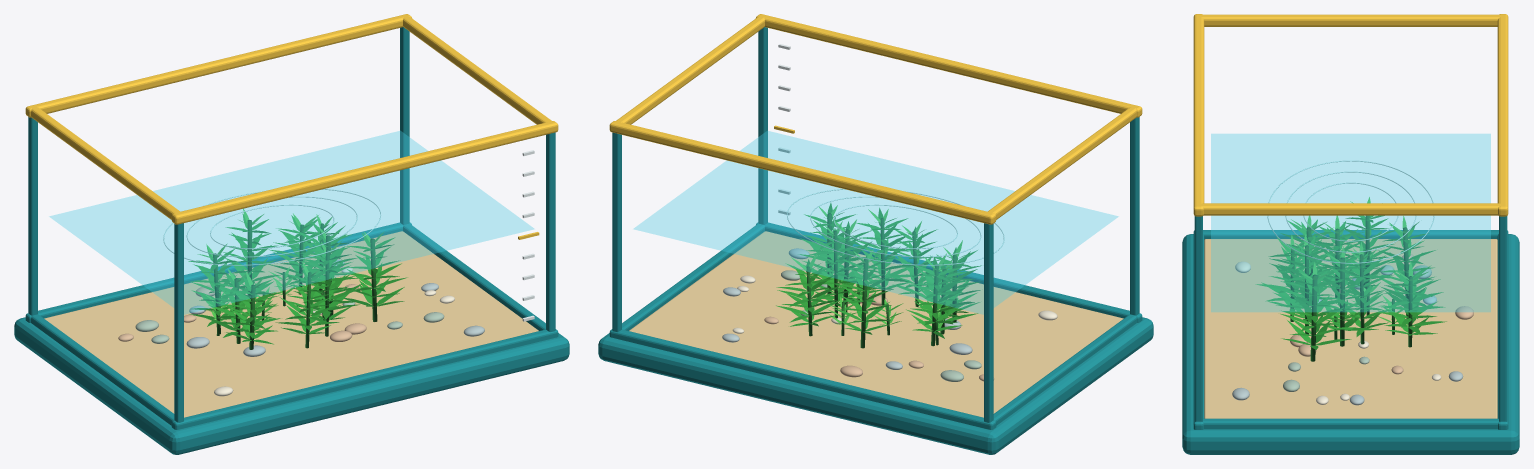
File: submerged_plant_tank_finalnewnew.glb
The picture shows the model from 3 angles, left to right: view 1: azimuth 30°, elevation 25°; view 2: azimuth 150°, elevation 25°; view 3: azimuth 270°, elevation 25°; orthographic projection. The views are drawn at different scales.
Parts seen in each view (by area): view 1: WaterSurface, Bottom, DisplayBase, Rim.004, Rim.005, Rim, Rim.001, Rim.006, Rim.007, Rim.002, CornerPost, CornerPost.002 (+4 smaller); view 2: WaterSurface, Bottom, DisplayBase, Rim.005, Rim.004, Rim.001, Rim, Rim.006, Rim.007, Rim.002, CornerPost.001, CornerPost.003 (+4 smaller); view 3: WaterSurface, Bottom, DisplayBase, Rim.007, Rim.006, Rim.003, Rim.005, Rim.004, Rim.002, CornerPost.002, CornerPost.003, Rim (+5 smaller).
Boxes of the visible parts, x1=… form: WaterSurface: x1=49, y1=131, x2=533, y2=314; Bottom: x1=44, y1=231, x2=538, y2=417; DisplayBase: x1=14, y1=317, x2=569, y2=454; Rim.004: x1=171, y1=121, x2=558, y2=224; Rim.005: x1=25, y1=14, x2=411, y2=117; Rim: x1=171, y1=329, x2=558, y2=429; Rim.001: x1=25, y1=222, x2=411, y2=322; Rim.006: x1=31, y1=106, x2=180, y2=219; Rim.007: x1=403, y1=16, x2=551, y2=124; Rim.002: x1=31, y1=314, x2=174, y2=425; CornerPost: x1=174, y1=223, x2=183, y2=422; CornerPost.002: x1=546, y1=132, x2=555, y2=331; WaterSurface: x1=634, y1=131, x2=1118, y2=314; Bottom: x1=629, y1=231, x2=1123, y2=417; DisplayBase: x1=598, y1=317, x2=1153, y2=454; Rim.005: x1=609, y1=121, x2=996, y2=224; Rim.004: x1=756, y1=14, x2=1142, y2=117; Rim.001: x1=609, y1=329, x2=996, y2=429; Rim: x1=756, y1=222, x2=1142, y2=322; Rim.006: x1=987, y1=106, x2=1136, y2=219; Rim.007: x1=616, y1=16, x2=764, y2=124; Rim.002: x1=993, y1=314, x2=1136, y2=425; CornerPost.001: x1=984, y1=223, x2=993, y2=422; CornerPost.003: x1=612, y1=132, x2=621, y2=331; WaterSurface: x1=1211, y1=134, x2=1490, y2=311; Bottom: x1=1204, y1=239, x2=1497, y2=418; DisplayBase: x1=1182, y1=234, x2=1519, y2=454; Rim.007: x1=1199, y1=203, x2=1501, y2=215; Rim.006: x1=1200, y1=14, x2=1502, y2=26; Rim.003: x1=1203, y1=418, x2=1498, y2=429; Rim.005: x1=1497, y1=14, x2=1508, y2=216; Rim.004: x1=1193, y1=14, x2=1204, y2=216; Rim.002: x1=1203, y1=230, x2=1498, y2=239; CornerPost.002: x1=1194, y1=216, x2=1202, y2=421; CornerPost.003: x1=1499, y1=216, x2=1507, y2=421; Rim: x1=1193, y1=230, x2=1204, y2=429.
Size of the model in its own units: 2.02 by 1.14 by 1.42.
